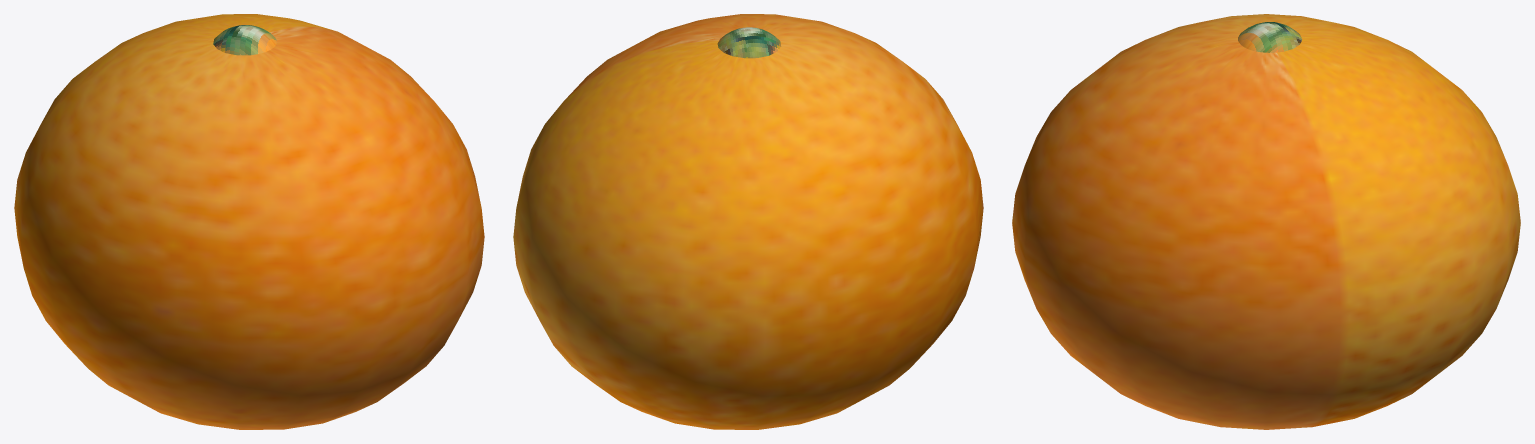
File: mikan.fbx
3 renders of one model, left to right at view 1: azimuth 30°, elevation 25°; view 2: azimuth 150°, elevation 25°; view 3: azimuth 270°, elevation 25°, orthographic.
Visible parts, largest first — view 1: pSphere3; view 2: pSphere3; view 3: pSphere3.
Part boxes in pixels (x1,y1,x2,y2): pSphere3: (14,14,484,429); pSphere3: (513,14,983,429); pSphere3: (1012,14,1520,429).
Size of the model in its own units: 2 by 1.63 by 2.18.
Materials: 2 (2 with a texture image).
